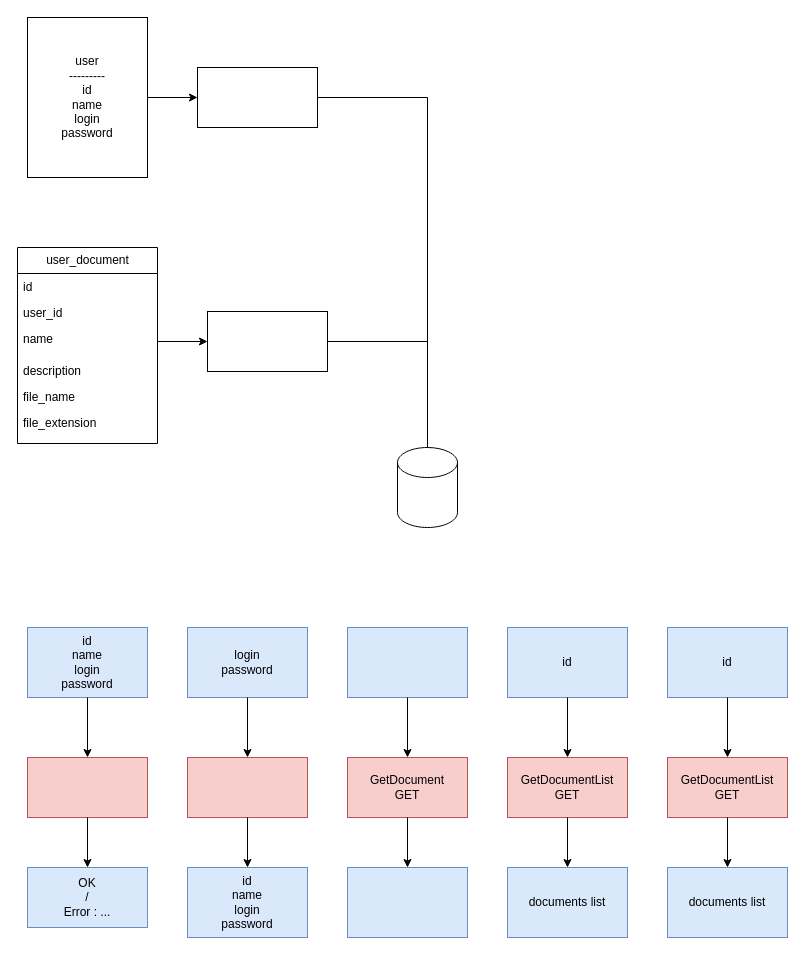
Some shapes in this 805 by 955 pixel diagram are drawn without their labels. Each missing label, with the box of its shape:
Database: (396, 446, 458, 528)
doc_id: (346, 626, 468, 698)
documents: (206, 310, 328, 372)
Log In POST: (186, 756, 308, 818)
Register POST: (26, 756, 148, 818)
the document: (346, 866, 468, 938)
users: (196, 66, 318, 128)
